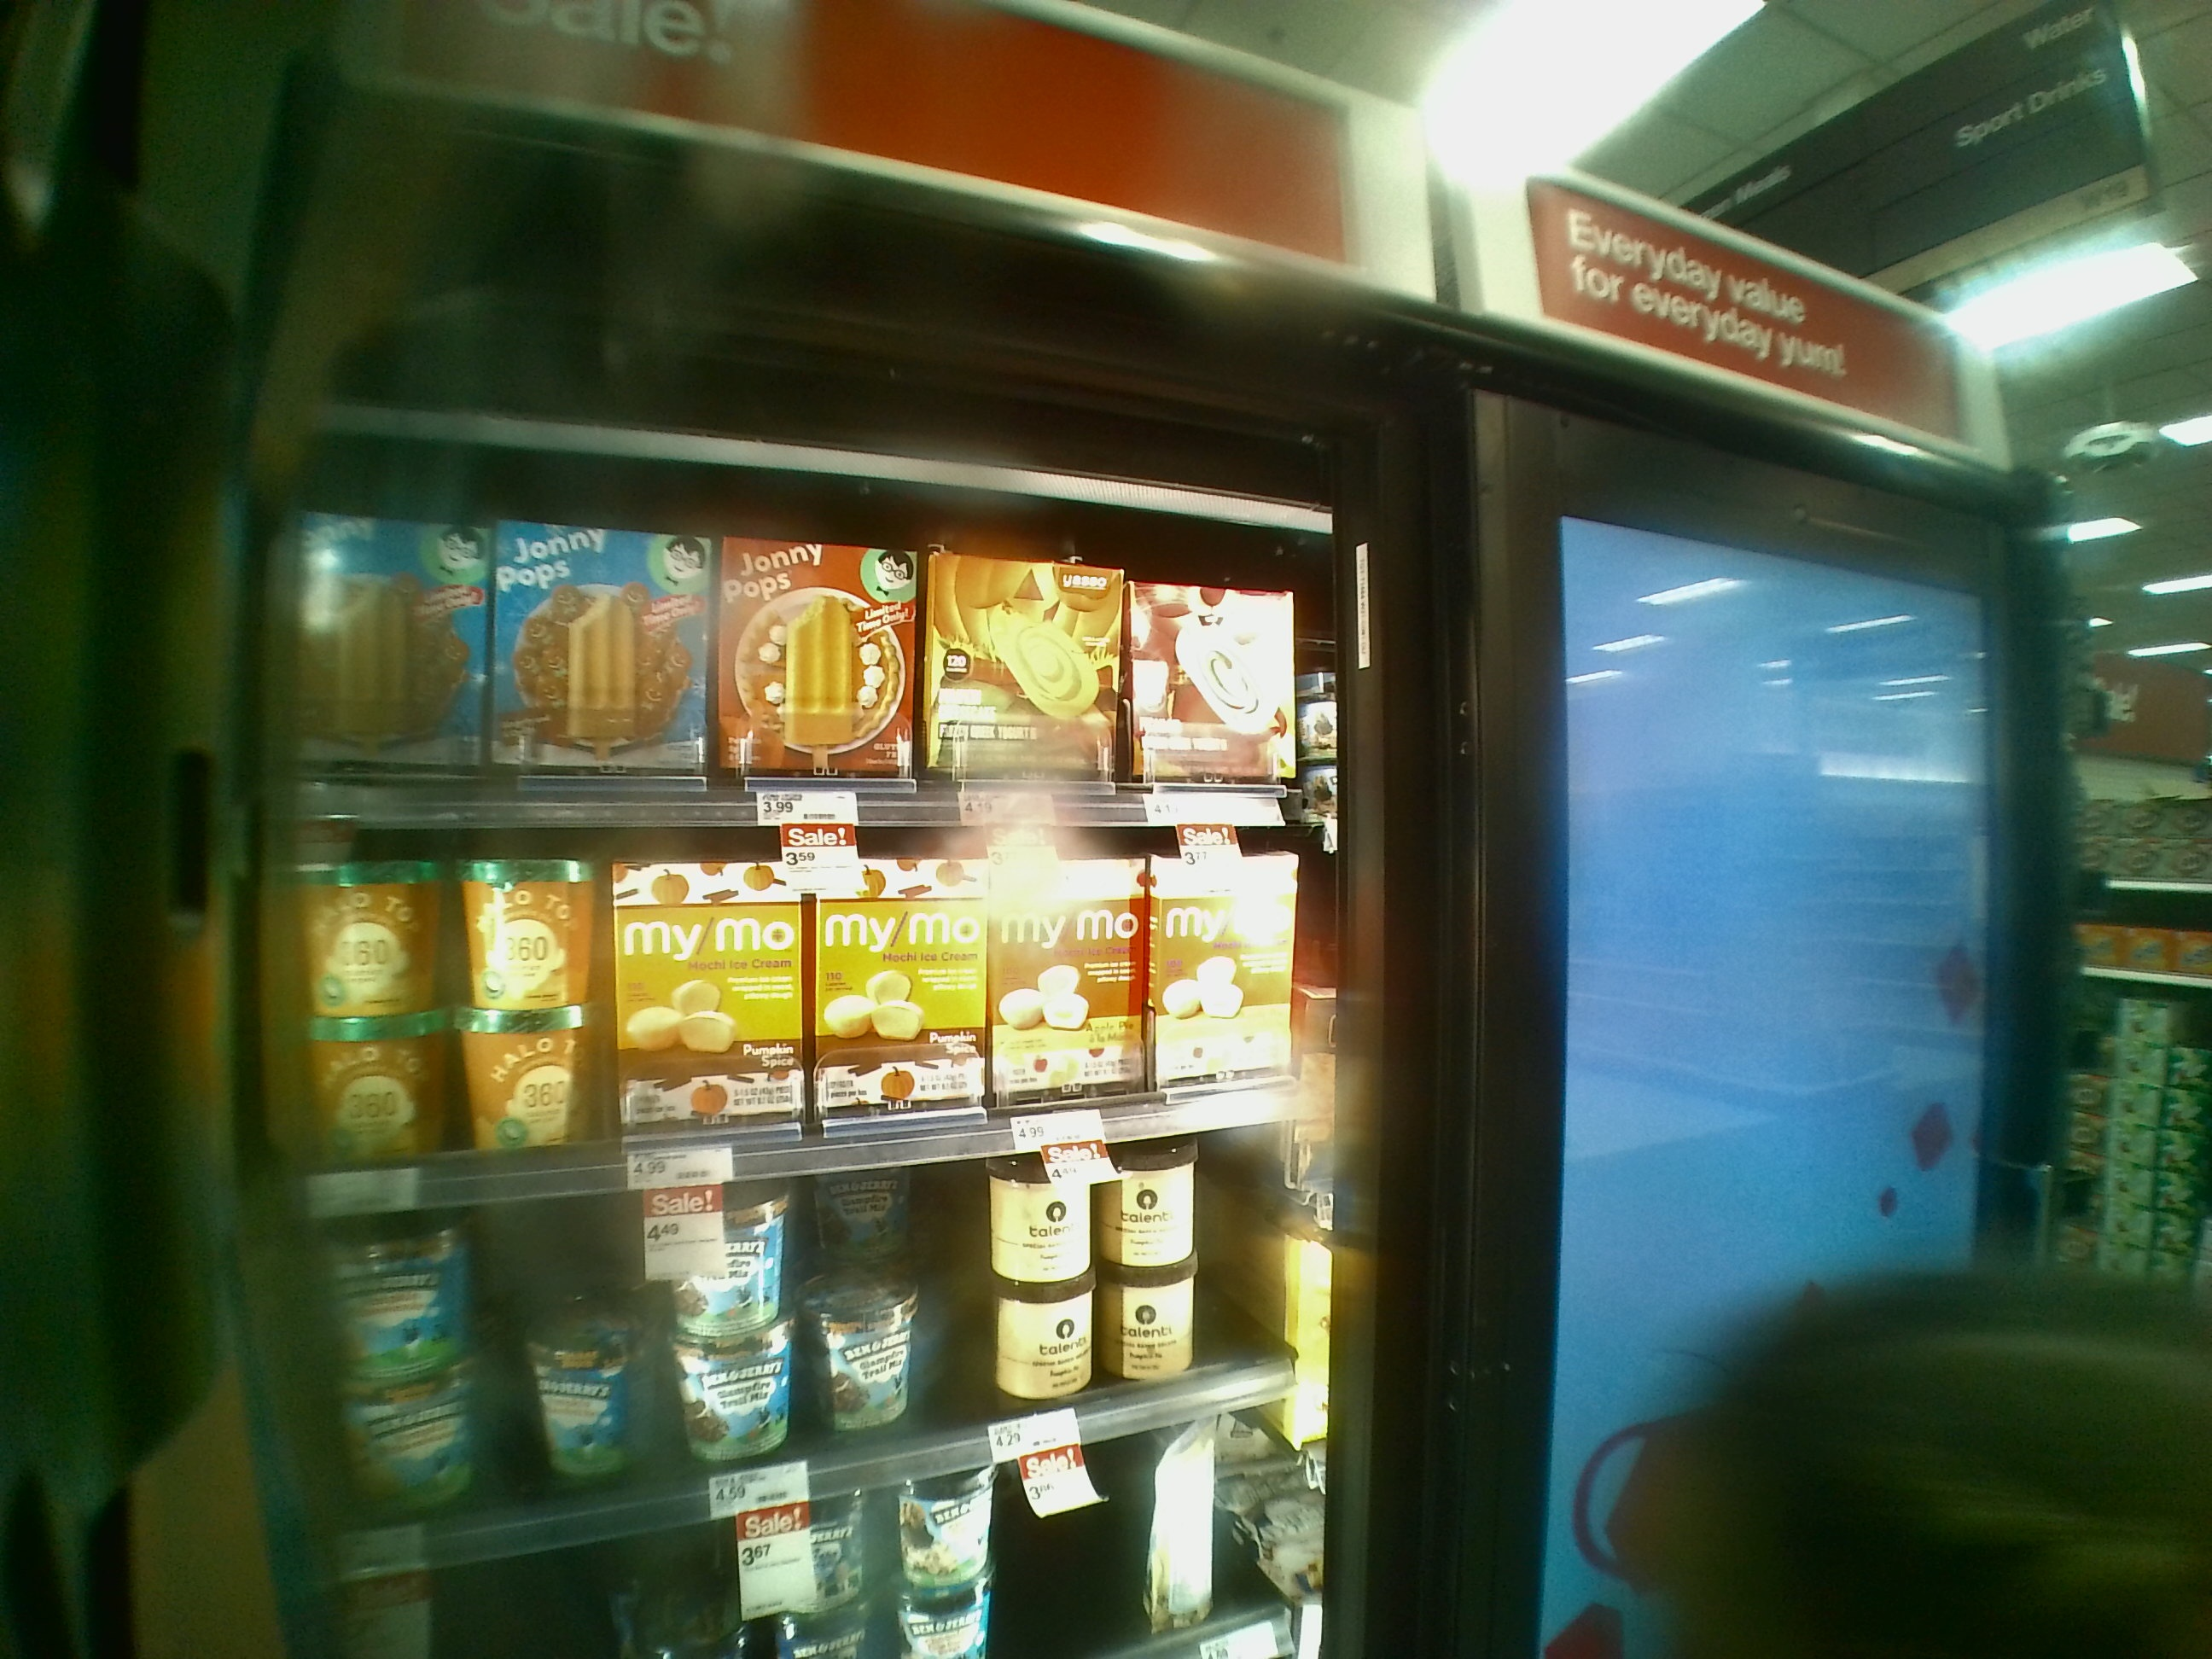shelf: (261, 791, 1331, 1169), (280, 1175, 1325, 1549), (260, 462, 1331, 826)
